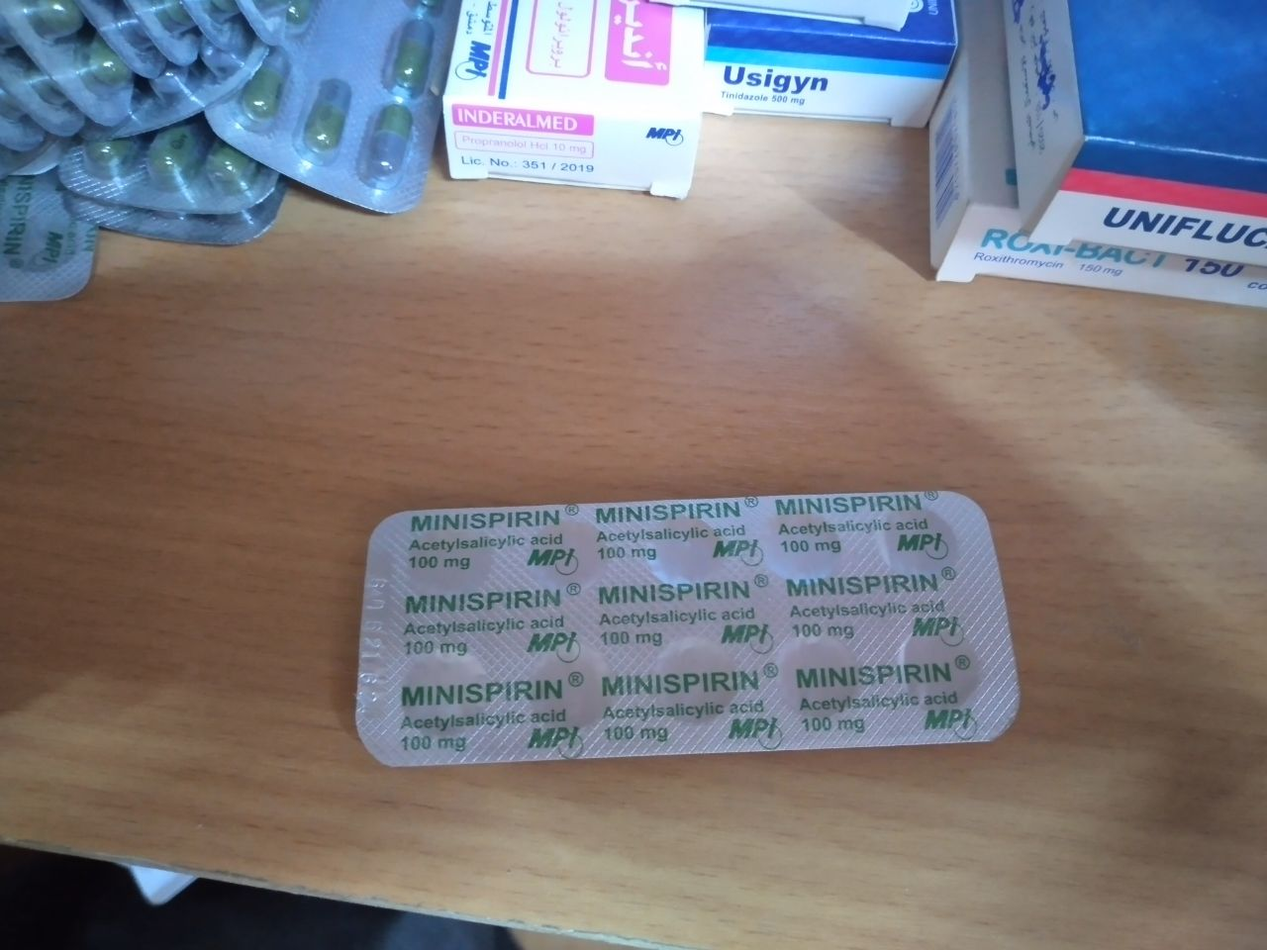Medicine: (354, 495, 1032, 769)
